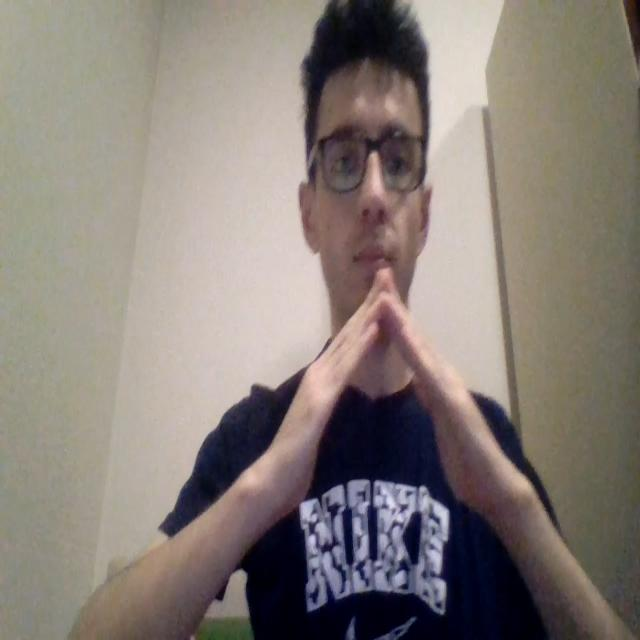house: (238, 264, 532, 529)
